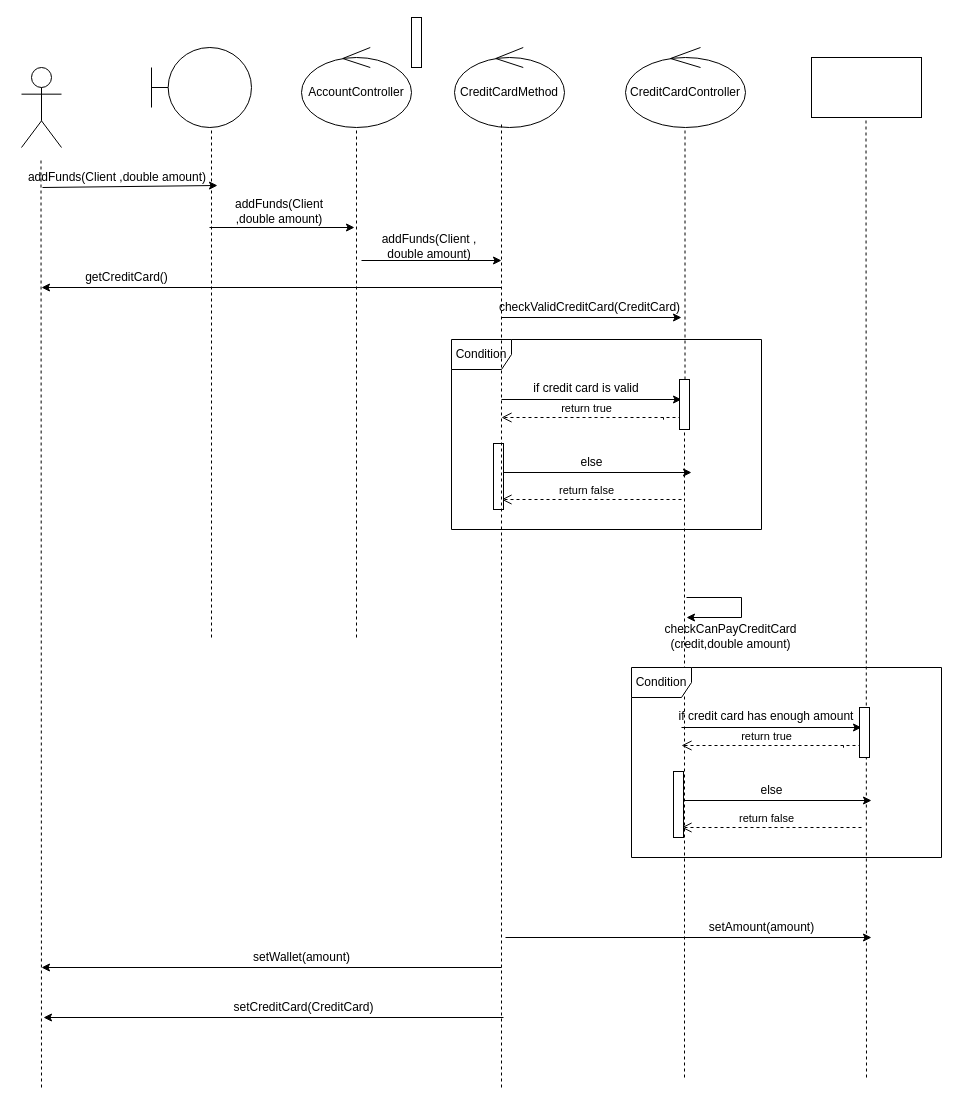
The diagram is 959 pixels wide and 1106 high, and some of its shapes have lost their labels. The shapes that lost their labels are listed below. From the top down, each one's centre as x and y in pixels, then its label:
At (41,107): "Admin".
At (201,87): "FawryScreen".
At (866,87): "CreditCard".
